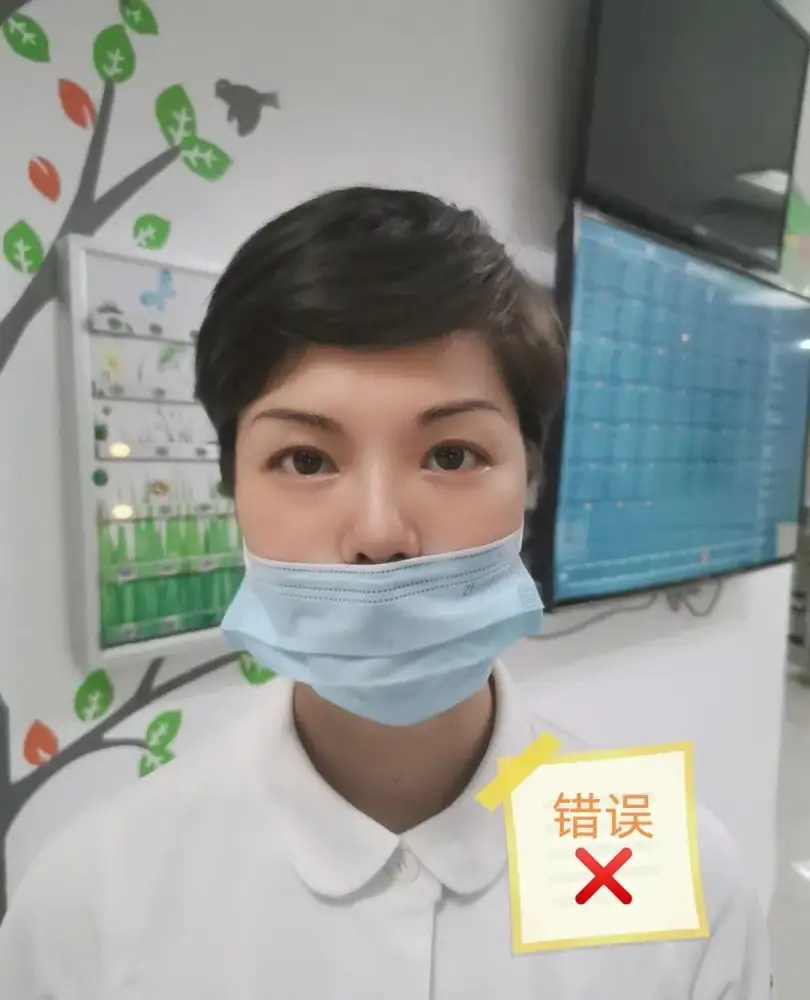nose_out: (230, 333, 531, 719)
